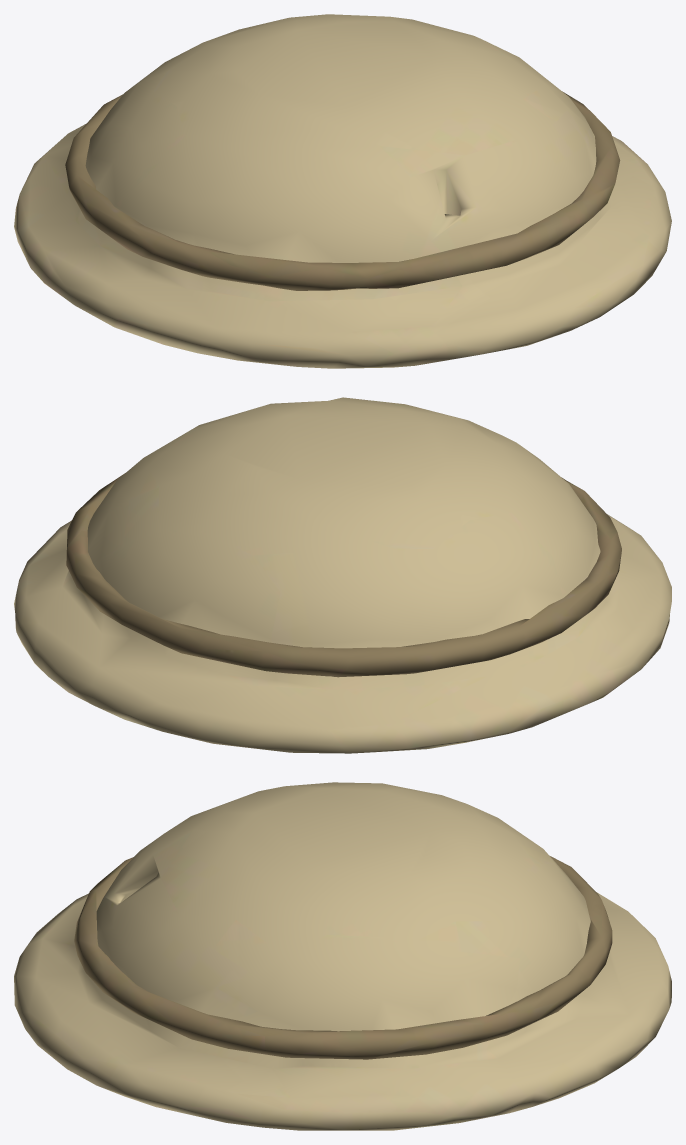
Rendered from explorer-hat.glb.
3 views of the same model, one above another, from view 1: azimuth 30°, elevation 25°; view 2: azimuth 150°, elevation 25°; view 3: azimuth 270°, elevation 25° (orthographic).
Visible parts, largest first — view 1: hat; view 2: hat; view 3: hat.
Part boxes in pixels (x1,y1,x2,y2): hat: (14, 14, 671, 368); hat: (14, 397, 671, 753); hat: (14, 782, 671, 1130).
Size of the model in its own units: 0.5286 by 0.1503 by 0.5388.
1 material, 1 textured.
